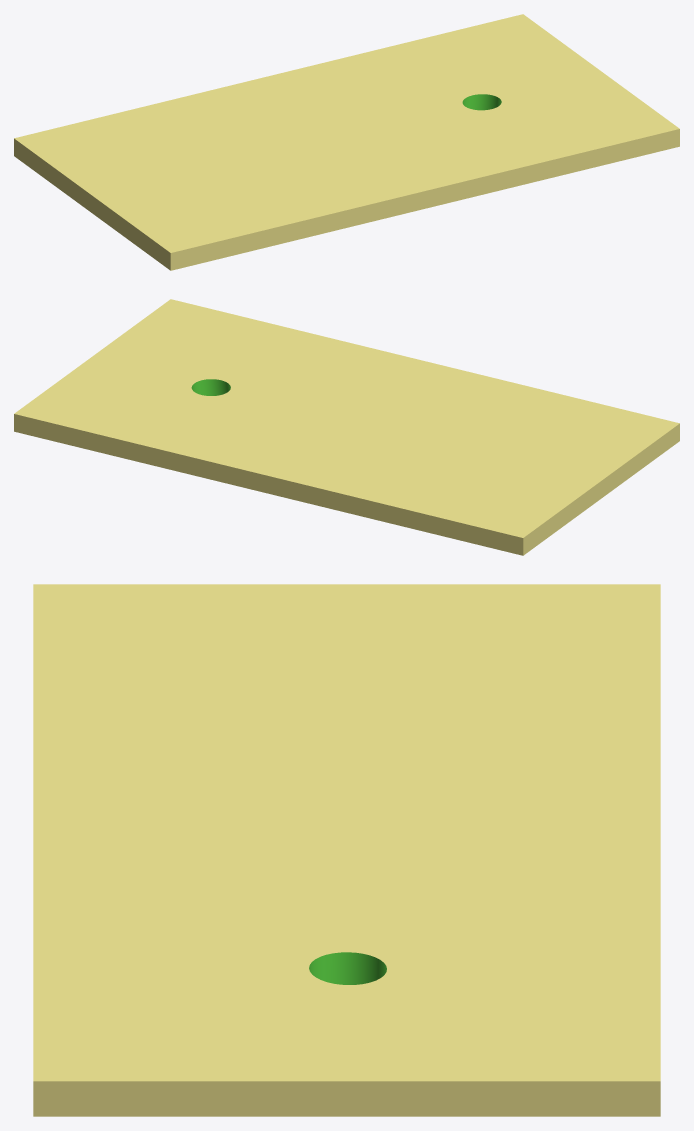
File: boarddd.fbx
3 views of the same model, one above another, from view 1: azimuth 30°, elevation 25°; view 2: azimuth 150°, elevation 25°; view 3: azimuth 270°, elevation 25° (orthographic). The views are drawn at different scales.
Parts seen in each view (by area): view 1: Cylinder.001; view 2: Cylinder.001; view 3: Cylinder.001.
Boxes of the visible parts, left/top/right/bottom form: Cylinder.001: left=14, top=14, right=679, bottom=270; Cylinder.001: left=14, top=299, right=679, bottom=555; Cylinder.001: left=33, top=584, right=660, bottom=1116.
Size of the model in its own units: 5554 by 718 by 2962.
